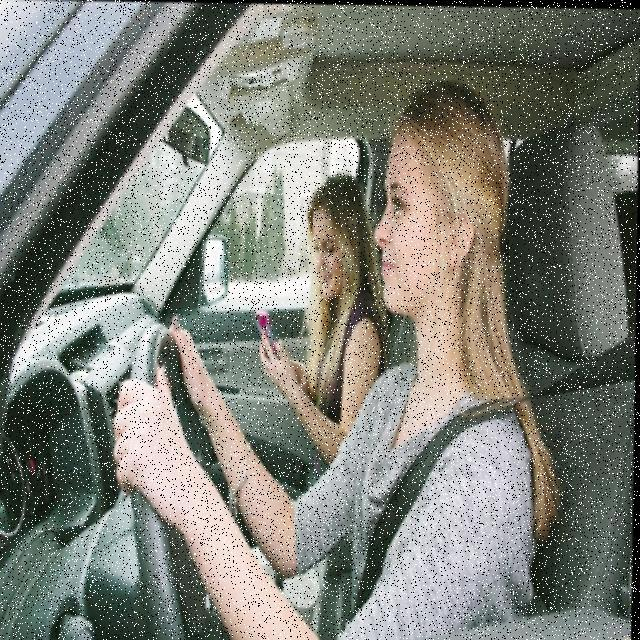seatbelt: (326, 344, 616, 639)
